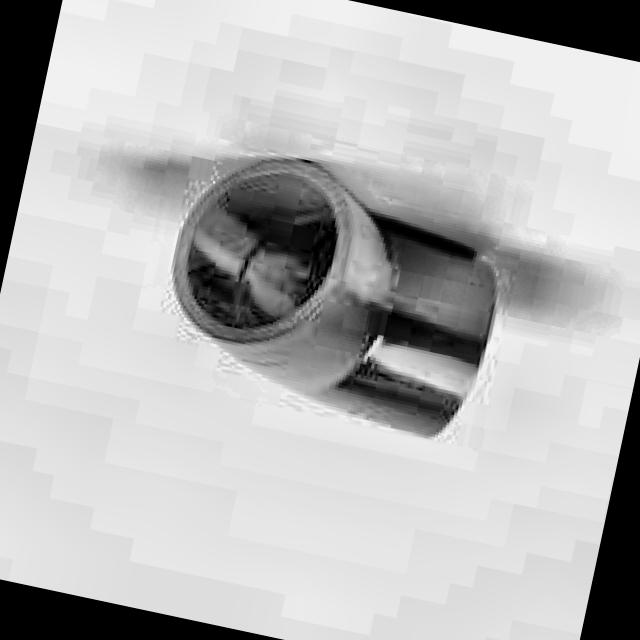ELBOW45: (170, 154, 500, 437)
